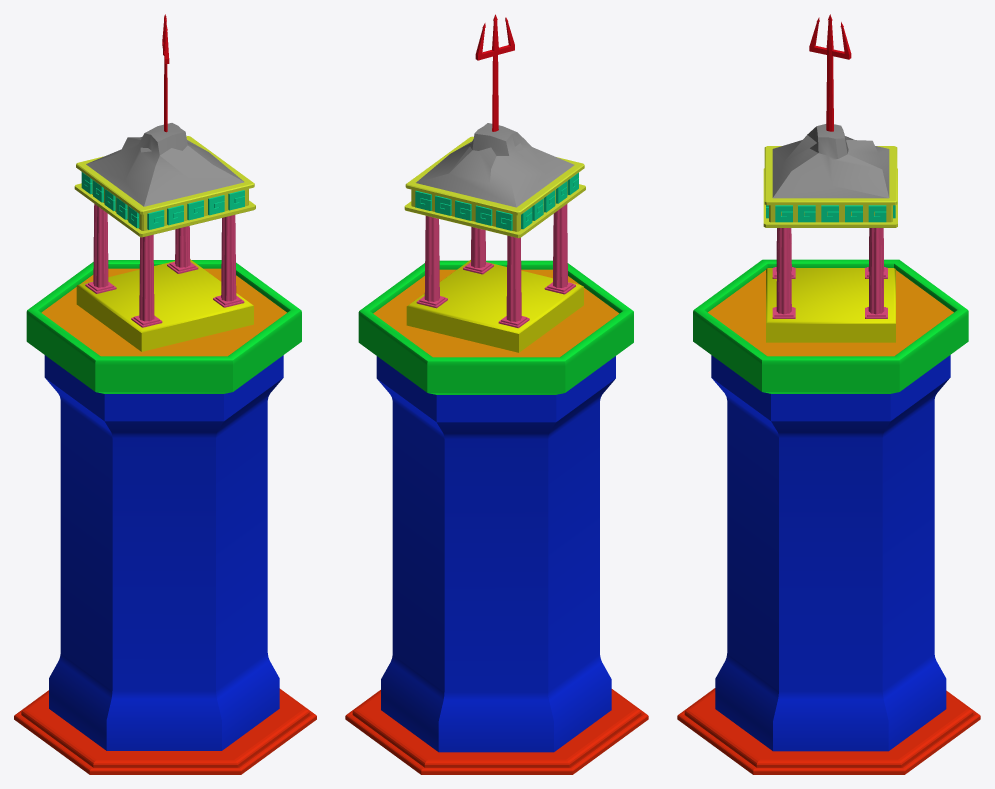
File: ayuntamiento.fbx
3 views of the same model, side by side, from view 1: azimuth 30°, elevation 25°; view 2: azimuth 150°, elevation 25°; view 3: azimuth 270°, elevation 25° (orthographic).
Visible parts, largest first — view 1: Cylinder.001, Cube.009, Base, Cube, Cylinder.002, Cube.007, Cylinder; view 2: Cylinder.001, Cube.009, Base, Cube, Cylinder.002, Cube.007, Cylinder; view 3: Cylinder.001, Cube.009, Base, Cube, Cylinder.002, Cube.007, Cylinder.
Part boxes in pixels (left/top/right/bottom): Cylinder.001: left=26, top=260, right=301, bottom=750; Cube.009: left=74, top=123, right=255, bottom=237; Base: left=14, top=688, right=316, bottom=774; Cube: left=76, top=259, right=253, bottom=351; Cylinder.002: left=85, top=204, right=244, bottom=327; Cube.007: left=81, top=172, right=244, bottom=229; Cylinder: left=162, top=14, right=169, bottom=132; Cylinder.001: left=358, top=260, right=633, bottom=752; Cube.009: left=404, top=123, right=585, bottom=238; Base: left=345, top=689, right=648, bottom=774; Cube: left=406, top=260, right=583, bottom=352; Cylinder.002: left=416, top=204, right=575, bottom=328; Cube.007: left=415, top=172, right=578, bottom=230; Cylinder: left=475, top=14, right=514, bottom=131; Cylinder.001: left=693, top=259, right=968, bottom=751; Cube.009: left=763, top=124, right=897, bottom=227; Base: left=677, top=688, right=980, bottom=774; Cube: left=766, top=268, right=895, bottom=342; Cylinder.002: left=772, top=228, right=887, bottom=318; Cube.007: left=766, top=205, right=895, bottom=222; Cylinder: left=809, top=14, right=851, bottom=131.
Size of the model in its own units: 327 by 970 by 377.
